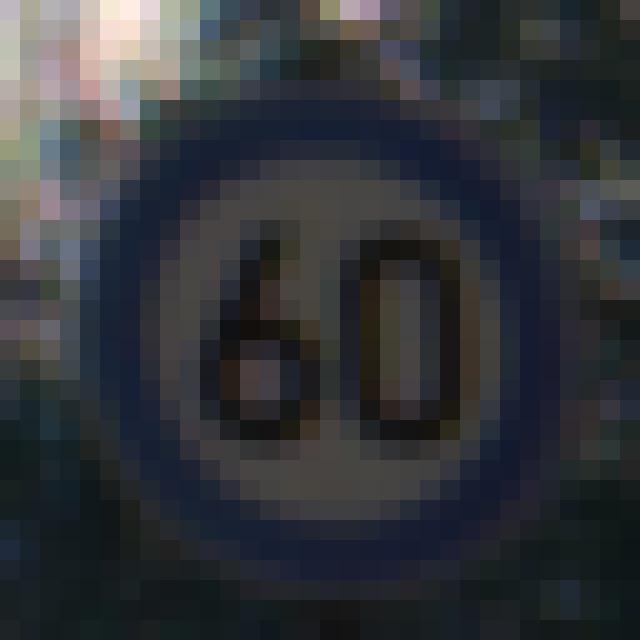SPEED-LIMIT-60: (70, 80, 583, 597)
